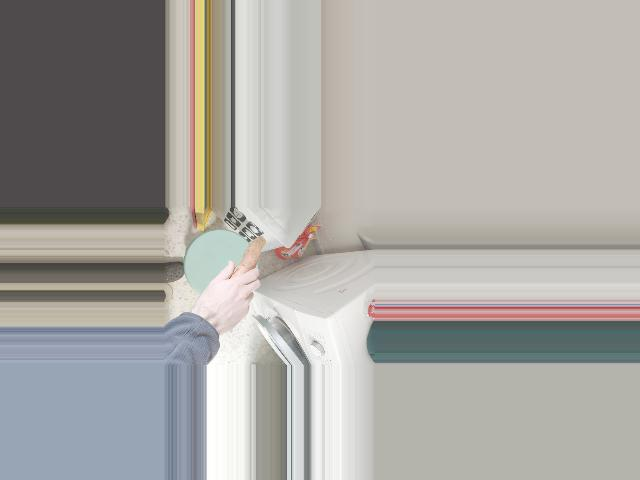sweet_potato: (211, 239, 266, 311)
